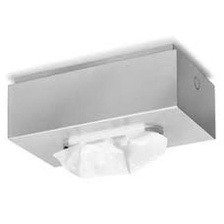book: (1, 39, 221, 173)
tissue: (48, 119, 172, 184)
